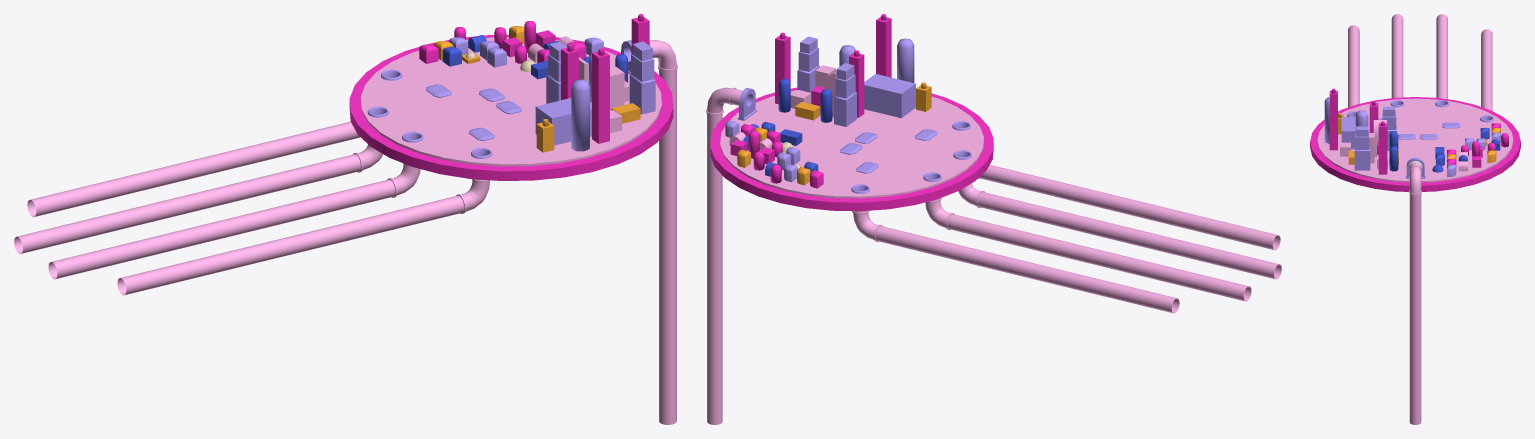
File: platform_level2_a02.glb
3 views of the same model, side by side, from view 1: azimuth 30°, elevation 25°; view 2: azimuth 150°, elevation 25°; view 3: azimuth 270°, elevation 25° (orthographic). The views are drawn at different scales.
Parts seen in each view (by area): view 1: Cylinder.061, Cube.271, Cube.213, Cube.270, Cylinder.062, Cube.210, Cube.212, Cube.257, Cube.254, Cylinder.077, Cube.222, Cube.215 (+1 smaller); view 2: Cylinder.061, Cube.212, Cube.270, Cube.213, Cylinder.062, Cube.210, Cube.271, Cube.222, Cube.215, Cube.257, Cube.254, Cube.255 (+2 smaller); view 3: Cylinder.061, Cube.210, Cylinder.062, Cube.213, Cube.270, Cube.271, Cube.212, Cube.257, Cube.254, Cube.255, Cube.222, Cube.215 (+4 smaller).
Boxes of the visible parts, x1,y1,x2,y2 form: Cylinder.061: (360,37,661,166); Cube.271: (117,179,489,295); Cube.213: (48,163,420,279); Cube.270: (14,144,382,253); Cylinder.062: (349,34,673,180); Cube.210: (649,39,677,424); Cube.212: (27,121,360,217); Cube.257: (629,41,655,114); Cube.254: (592,48,609,143); Cylinder.077: (571,79,589,151); Cube.222: (535,98,591,145); Cube.215: (546,41,567,103); Cylinder.061: (720,90,983,198); Cube.212: (852,210,1179,313); Cube.270: (925,198,1251,301); Cube.213: (958,183,1281,279); Cylinder.062: (710,87,993,211); Cube.210: (706,87,742,424); Cube.271: (978,165,1280,250); Cube.222: (864,74,915,118); Cube.215: (834,63,856,126); Cube.257: (797,36,819,92); Cube.254: (876,14,891,77); Cube.255: (775,32,790,104); Cylinder.061: (1317,98,1513,182); Cube.210: (1409,162,1421,424); Cylinder.062: (1310,97,1520,191); Cube.213: (1391,14,1403,97); Cube.270: (1436,14,1447,99); Cube.271: (1348,25,1359,107); Cube.212: (1481,29,1492,110); Cube.257: (1354,126,1370,170); Cube.254: (1329,88,1337,150); Cube.255: (1378,121,1387,174); Cube.222: (1341,117,1355,149); Cube.215: (1382,106,1396,150).
Bounding box in the file's own units: 107 × 72.08 × 47.13.
